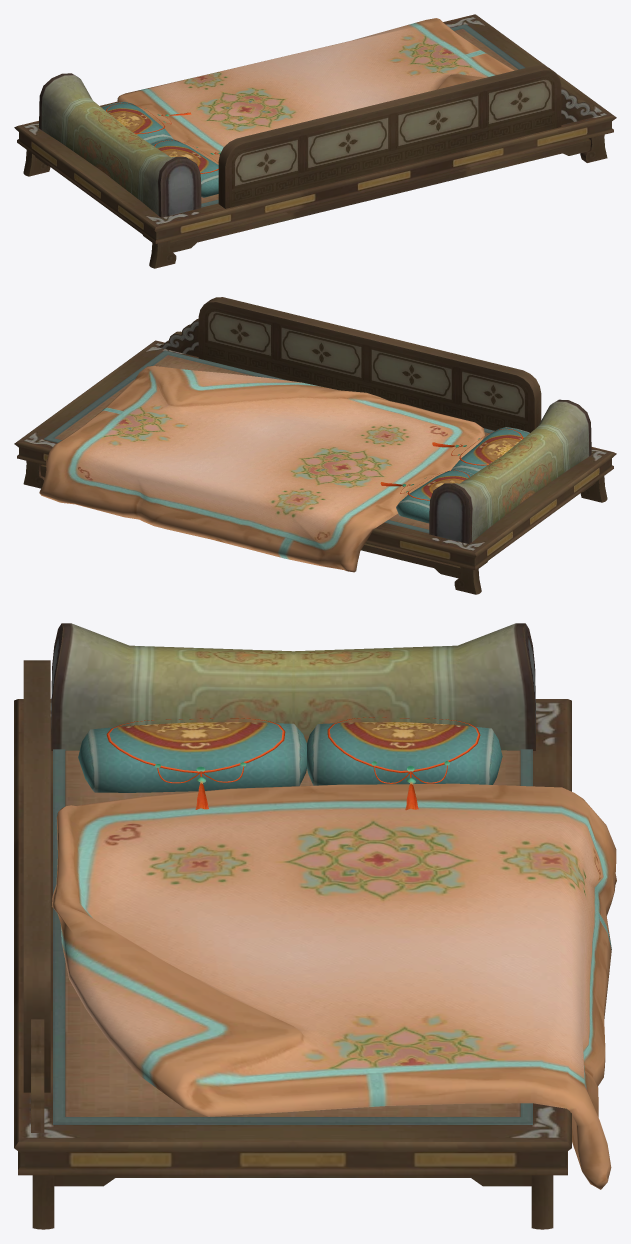
The model's file is furniture-18842.glb.
3 renders of one model, top to bottom at view 1: azimuth 30°, elevation 25°; view 2: azimuth 150°, elevation 25°; view 3: azimuth 270°, elevation 25°, orthographic. The views are drawn at different scales.
Bounding box in the file's own units: 4.85 × 1.06 × 2.76.
Materials: 1 (1 with a texture image).
